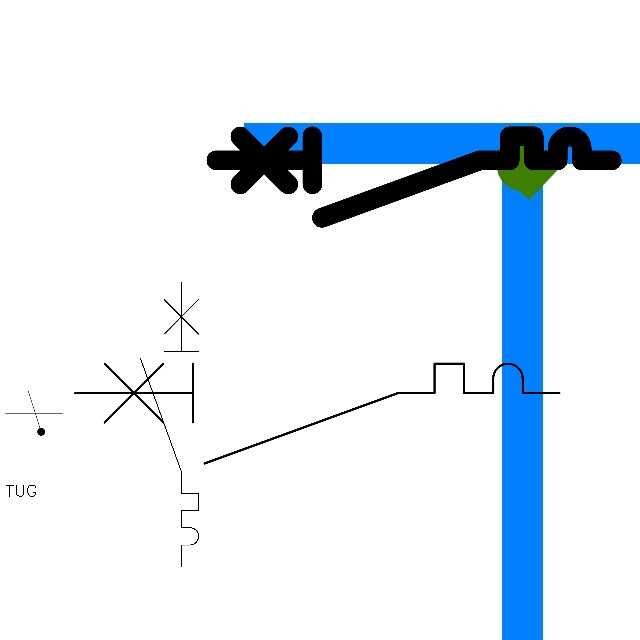interruptor_termomagnetico: (62, 351, 571, 475), (206, 126, 622, 227), (133, 275, 206, 574)
